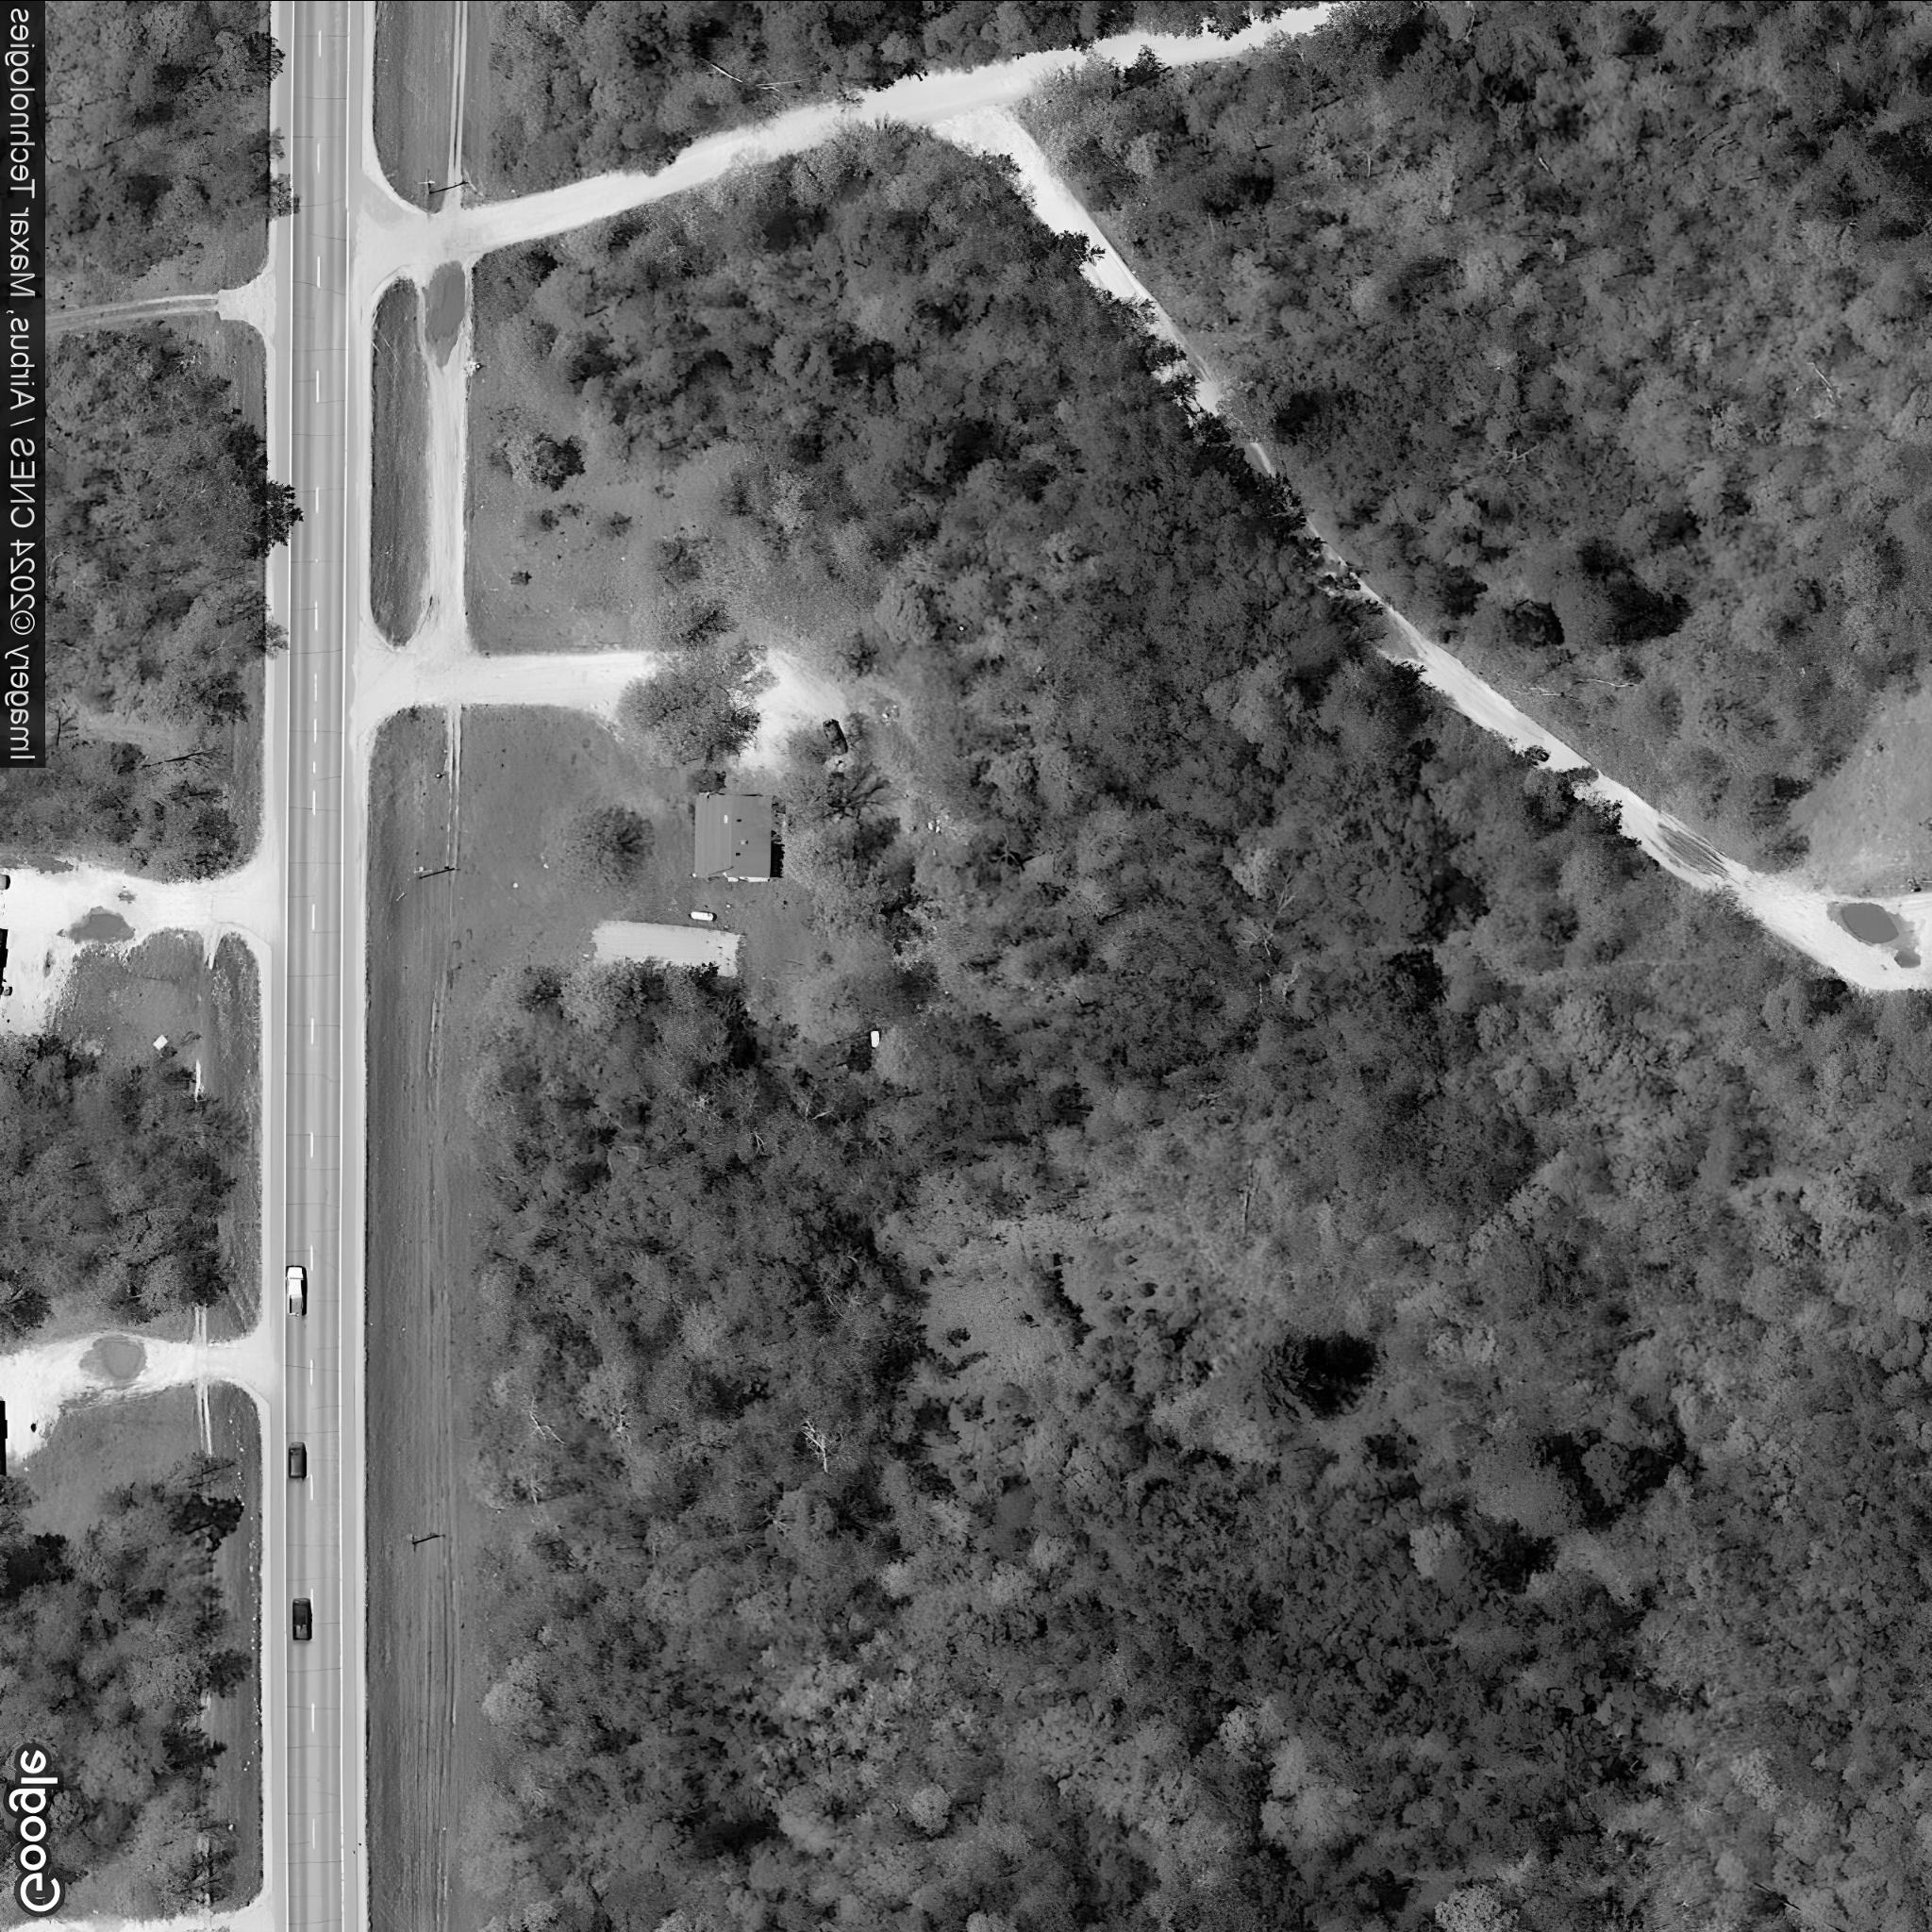House: (690, 791, 775, 883)
Propane: (688, 908, 718, 922)
